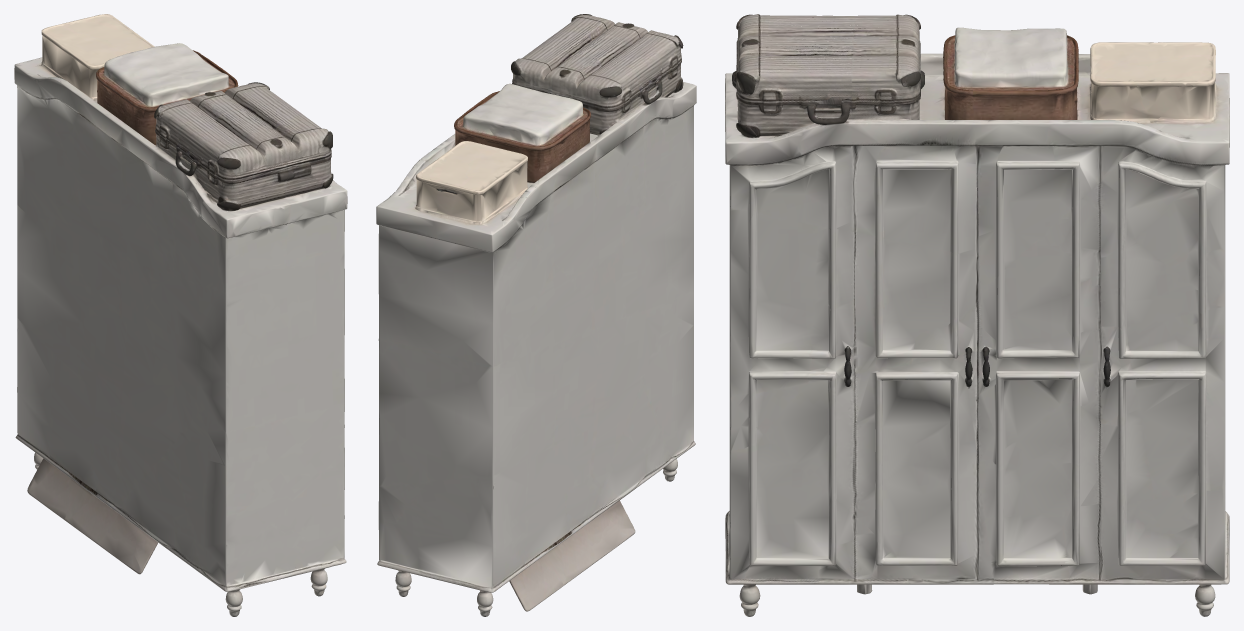
The model's file is B0FXGMKD2T.glb.
The picture shows the model from 3 angles, left to right: view 1: azimuth 30°, elevation 25°; view 2: azimuth 150°, elevation 25°; view 3: azimuth 270°, elevation 25°; orthographic projection. The views are drawn at different scales.
Parts seen in each view (by area): view 1: tripo_node_52155796-34ca-4a57-bfb8-6faf51f93b52; view 2: tripo_node_52155796-34ca-4a57-bfb8-6faf51f93b52; view 3: tripo_node_52155796-34ca-4a57-bfb8-6faf51f93b52.
Boxes of the visible parts, x1,y1,x2,y2 form: tripo_node_52155796-34ca-4a57-bfb8-6faf51f93b52: [14, 14, 347, 616]; tripo_node_52155796-34ca-4a57-bfb8-6faf51f93b52: [376, 14, 696, 616]; tripo_node_52155796-34ca-4a57-bfb8-6faf51f93b52: [725, 14, 1229, 616].
Size of the model in its own units: 0.3249 by 1 by 0.8315.
1 material, 1 textured.
